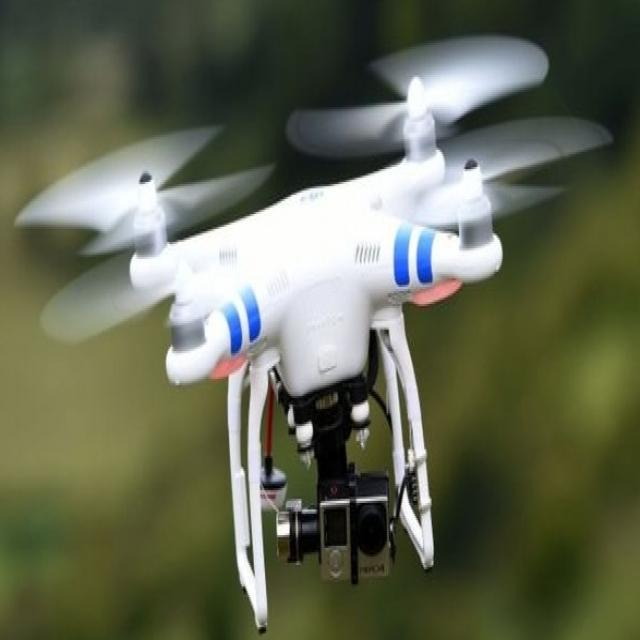drone: (6, 30, 638, 628)
